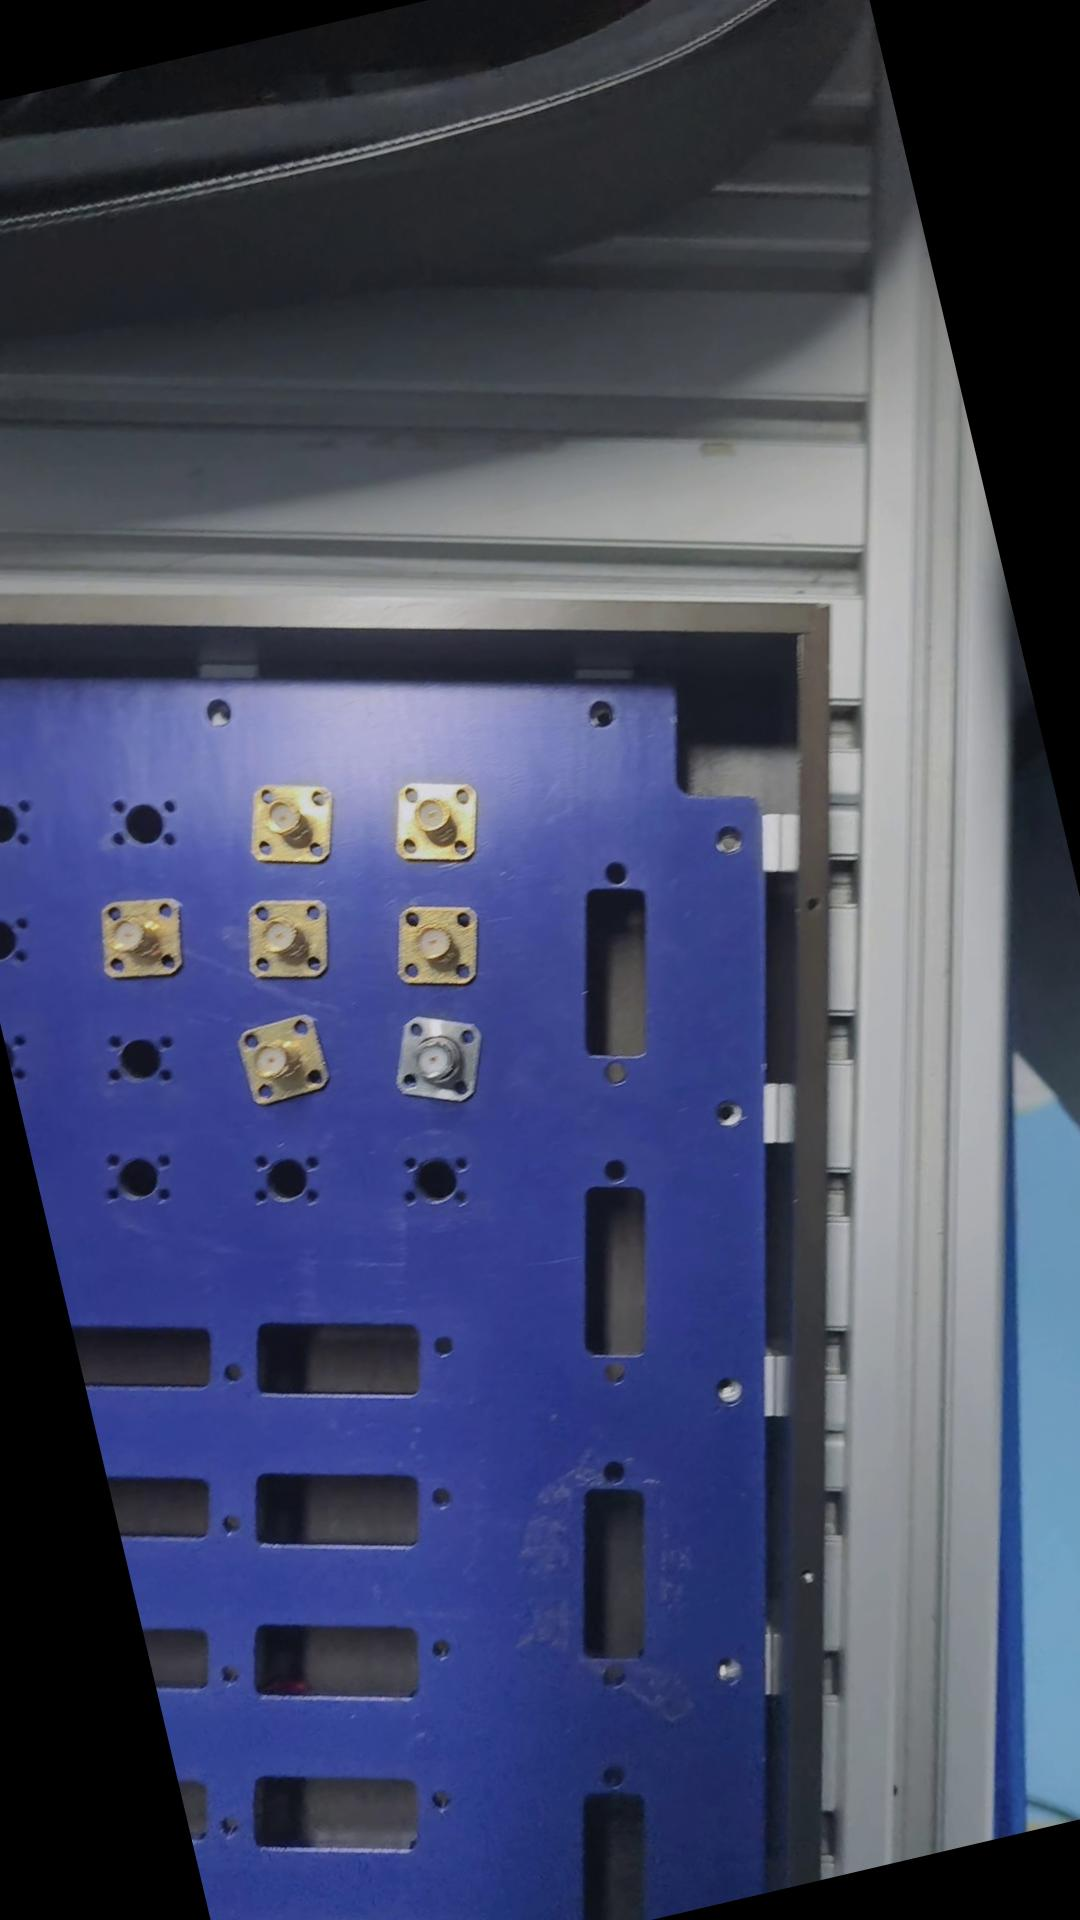SMA: (372, 767, 493, 880), (225, 1002, 338, 1118), (382, 1006, 495, 1117), (228, 884, 338, 996), (381, 895, 495, 1000), (233, 770, 342, 878), (87, 887, 193, 989)
